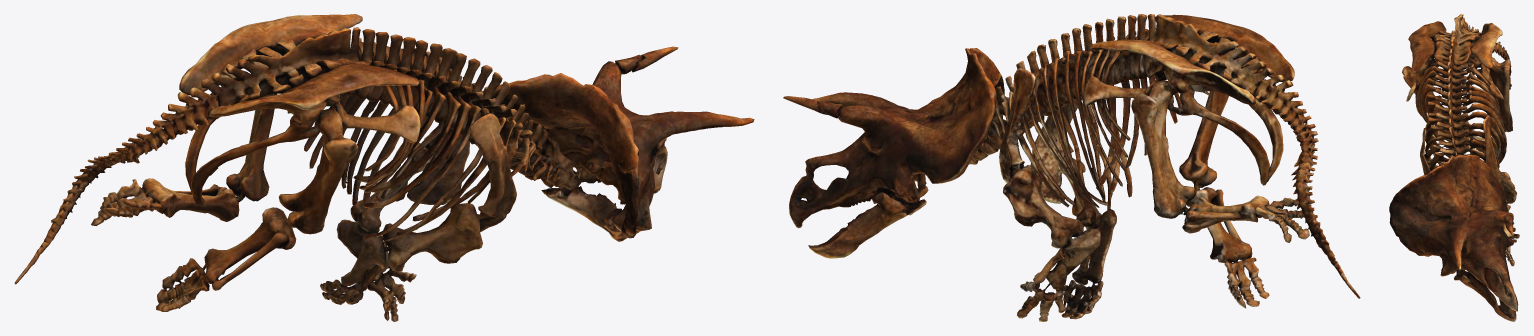
Rendered from mosi-skeleton.glb.
3 renders of one model, left to right at view 1: azimuth 30°, elevation 25°; view 2: azimuth 150°, elevation 25°; view 3: azimuth 270°, elevation 25°, orthographic. The views are drawn at different scales.
Visible parts, largest first — view 1: Character; view 2: Character; view 3: Character.
Boxes of the visible parts, <box> form: Character: <box>14,14,754,321</box>; Character: <box>783,14,1360,321</box>; Character: <box>1389,14,1519,321</box>.
Size of the model in its own units: 5.89 by 2.8 by 1.66.
Materials: 1 (1 with a texture image).
